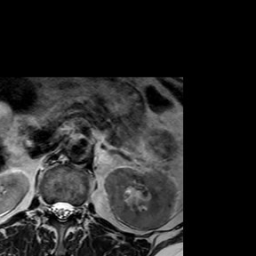CCS_normal: (58, 193, 65, 229)
LFS_normal: (73, 194, 80, 219)
LLS_normal: (65, 193, 73, 223)
RFS_normal: (44, 192, 51, 223)
RLS_normal: (51, 192, 58, 223)
